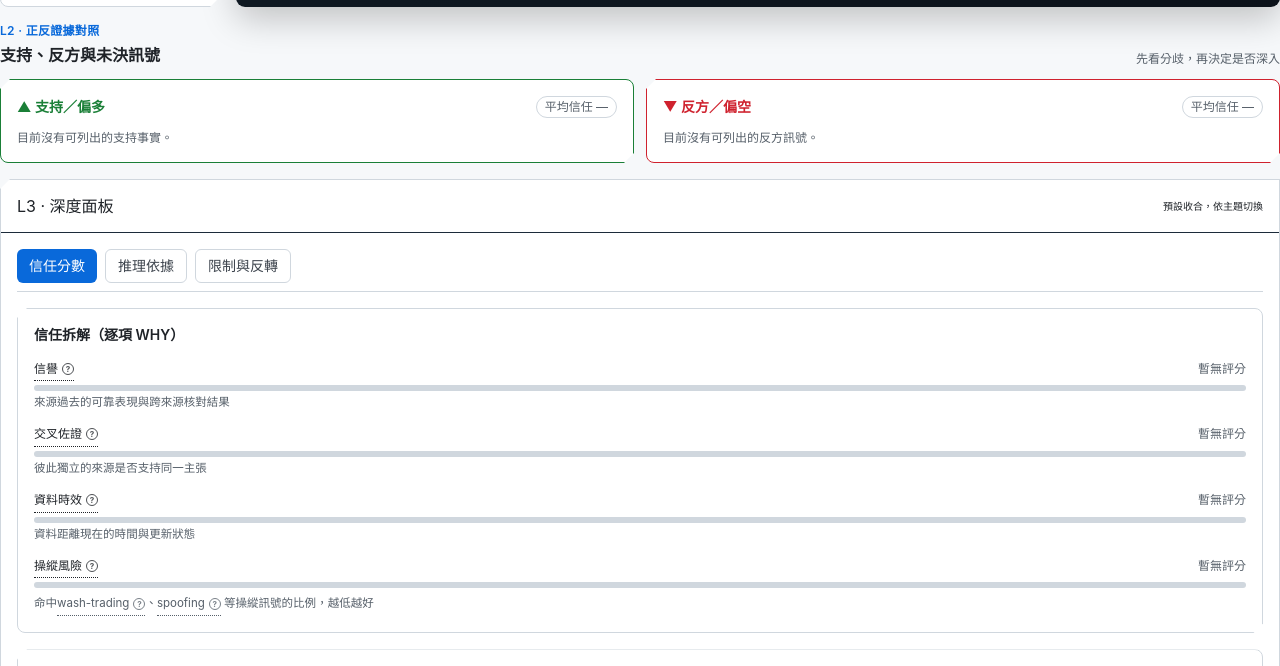
AnalysisReportView intrinsic shadow integration › contains malformed optional payload and keeps the official report visible
(page scrolled)
Click the tab "限制與反轉". click: click(243, 266)
box: [195, 249, 291, 283]
(page scrolled)
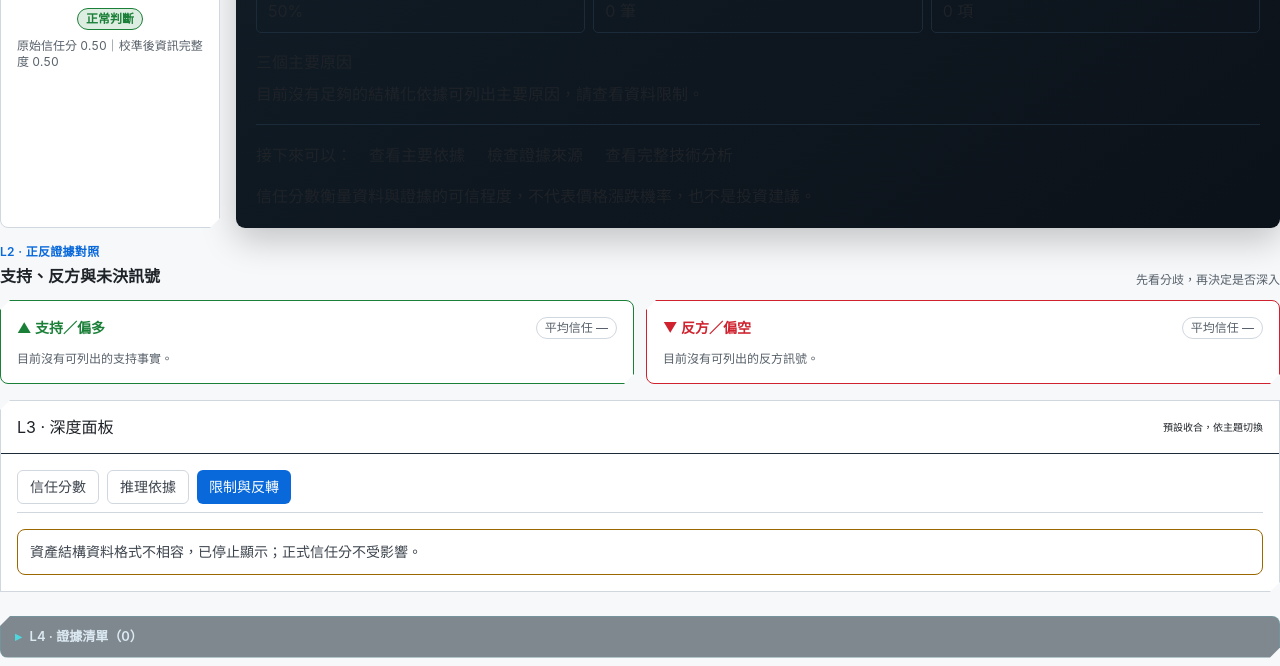
expect the text "資產結構資料格式不相容，已停止顯示；正式信任分不受影響。" is shown: met, box [17, 529, 1263, 575]
